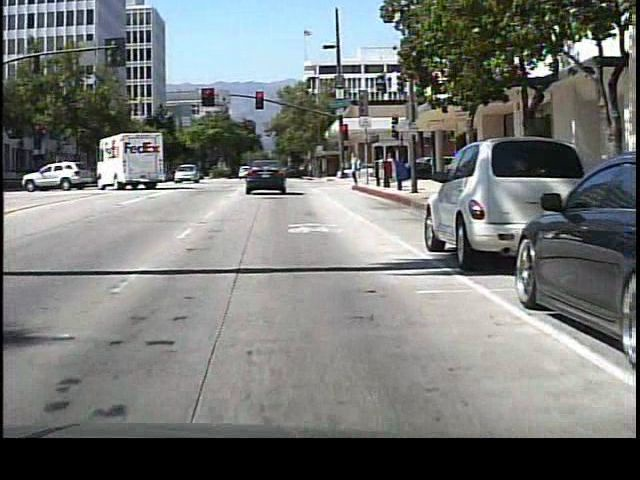person: (345, 150, 365, 191)
